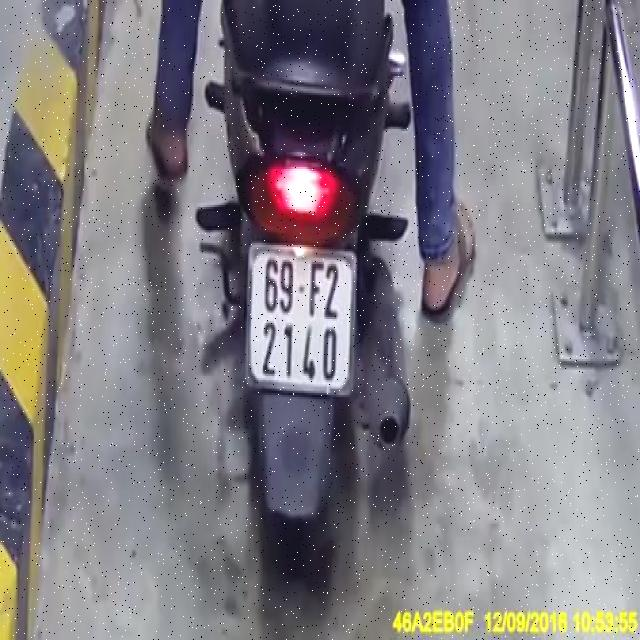0: (320, 326, 339, 378)
1: (281, 324, 295, 382)
2: (262, 320, 279, 381), (324, 262, 340, 321)
4: (301, 328, 317, 382)
6: (278, 260, 297, 314), (264, 258, 278, 312)
F: (309, 259, 325, 318)
